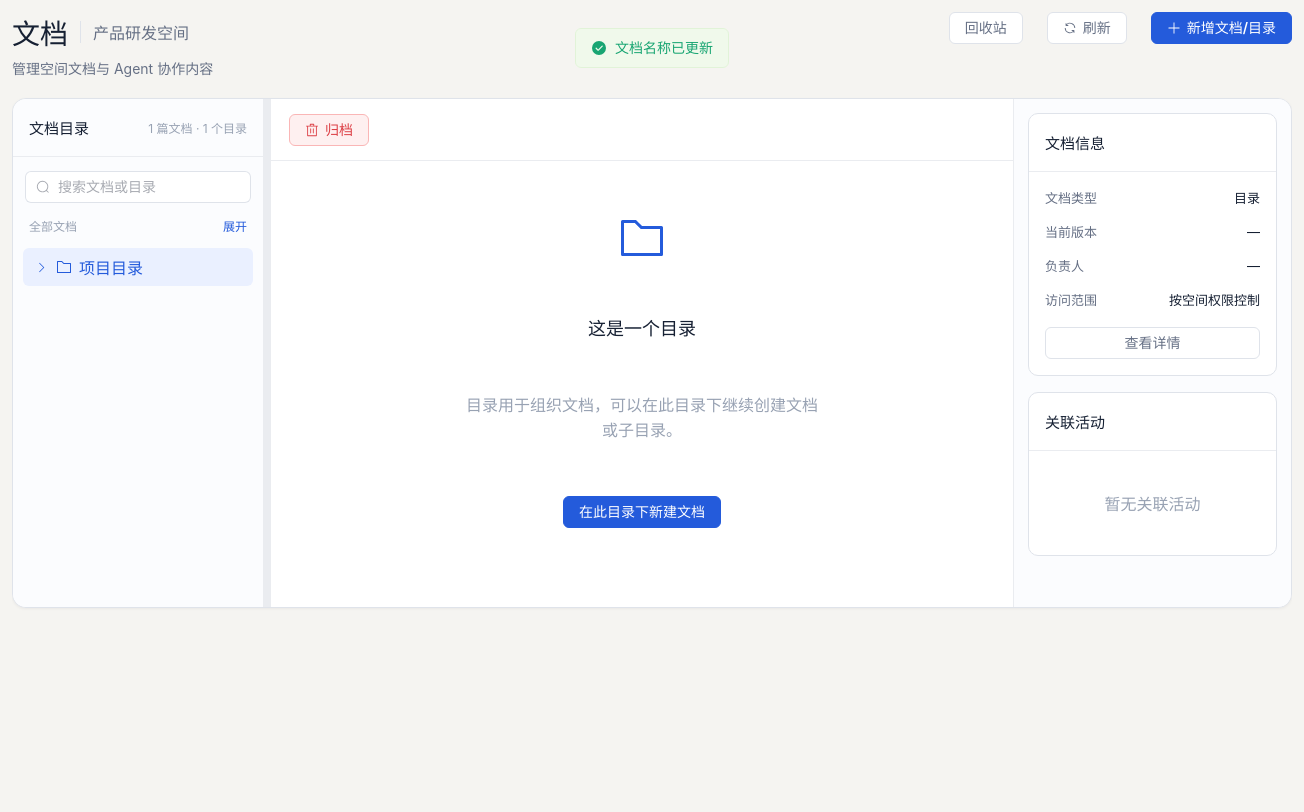
DocumentEditorView › restores the directory expansion state after clearing a search
Expected: the element with class "document-tree" does not show "目录内文档"
In the field named "搜索文档或目录": coordinates (149, 187) [58, 172, 240, 202], type "目录内文档"
Wait 260 ms
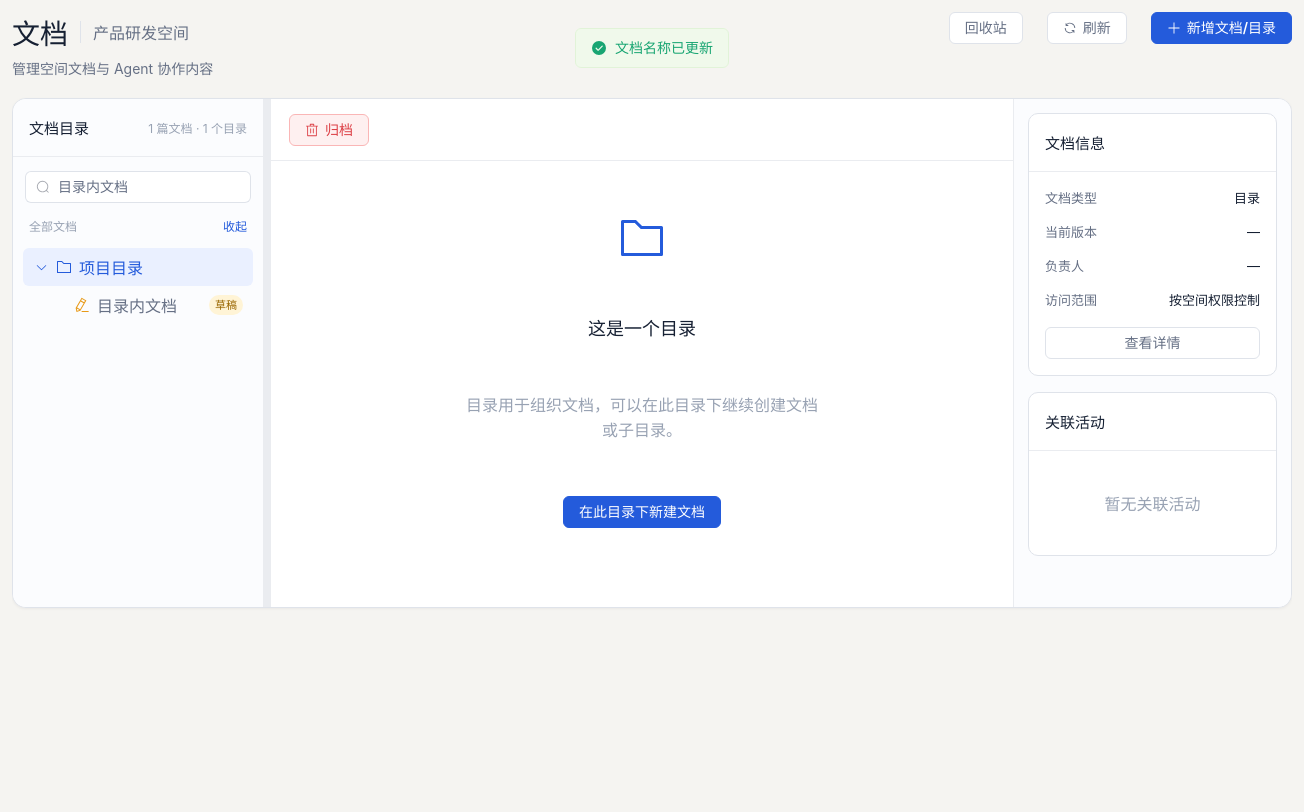
Expected: the element with class "document-tree" shows "目录内文档", [97, 296, 177, 316]
Clear the field named "搜索文档或目录": coordinates (149, 187) [58, 172, 240, 202]
Wait 260 ms
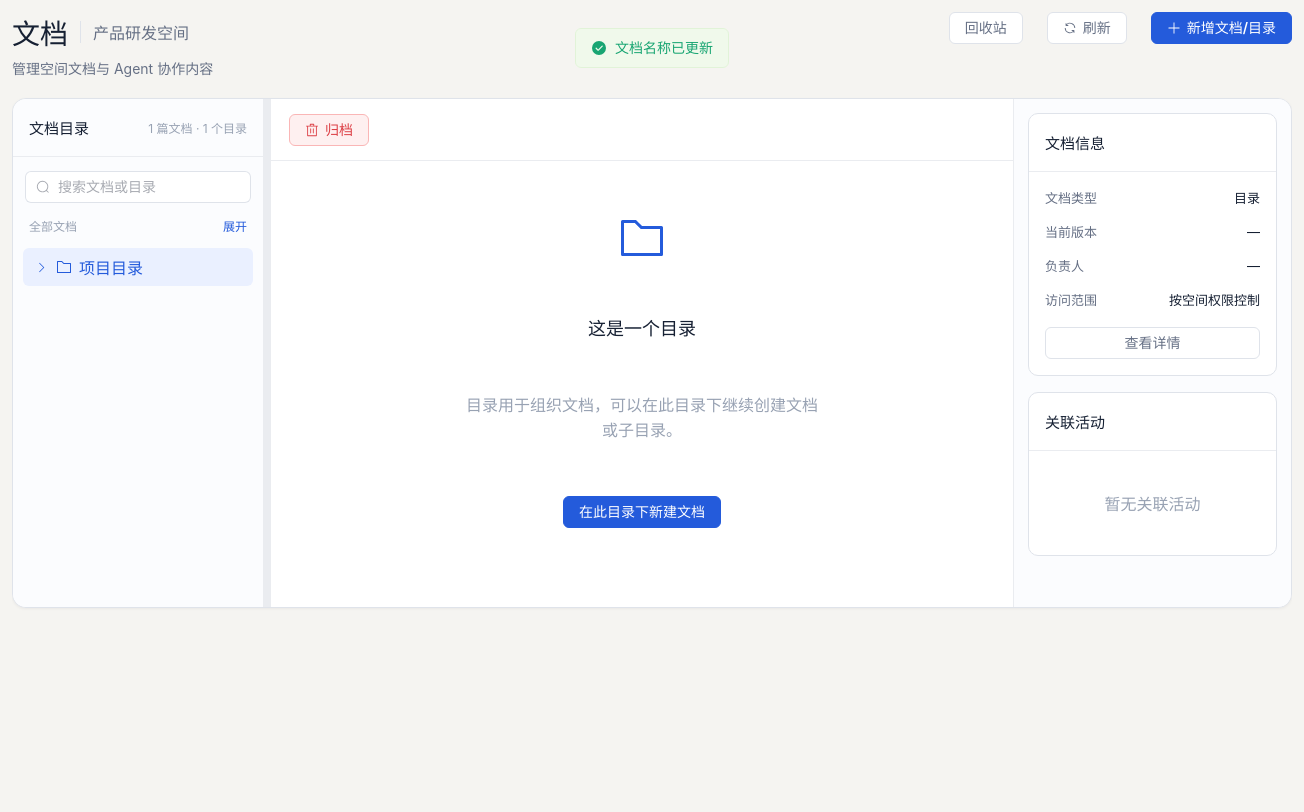
Expected: the button with class "document-tree" no longer shows "目录内文档"
